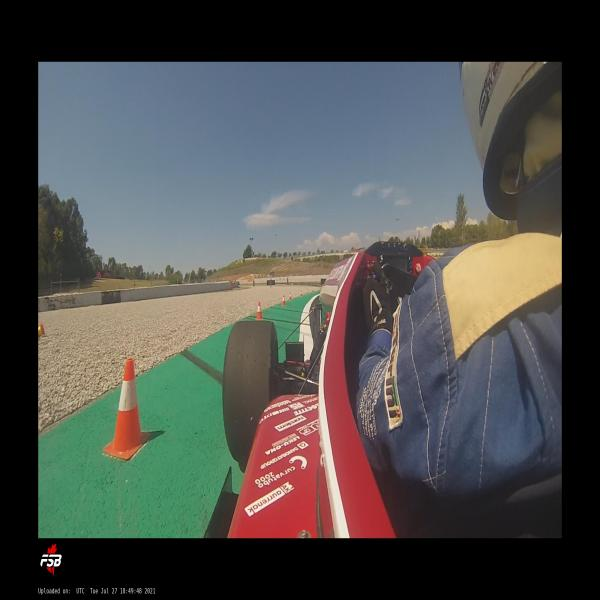orange_cone: (104, 359, 151, 460), (255, 301, 263, 319), (282, 295, 286, 305), (289, 292, 292, 300), (300, 290, 302, 295), (307, 289, 308, 293)
unknown_cone: (38, 323, 44, 337)
